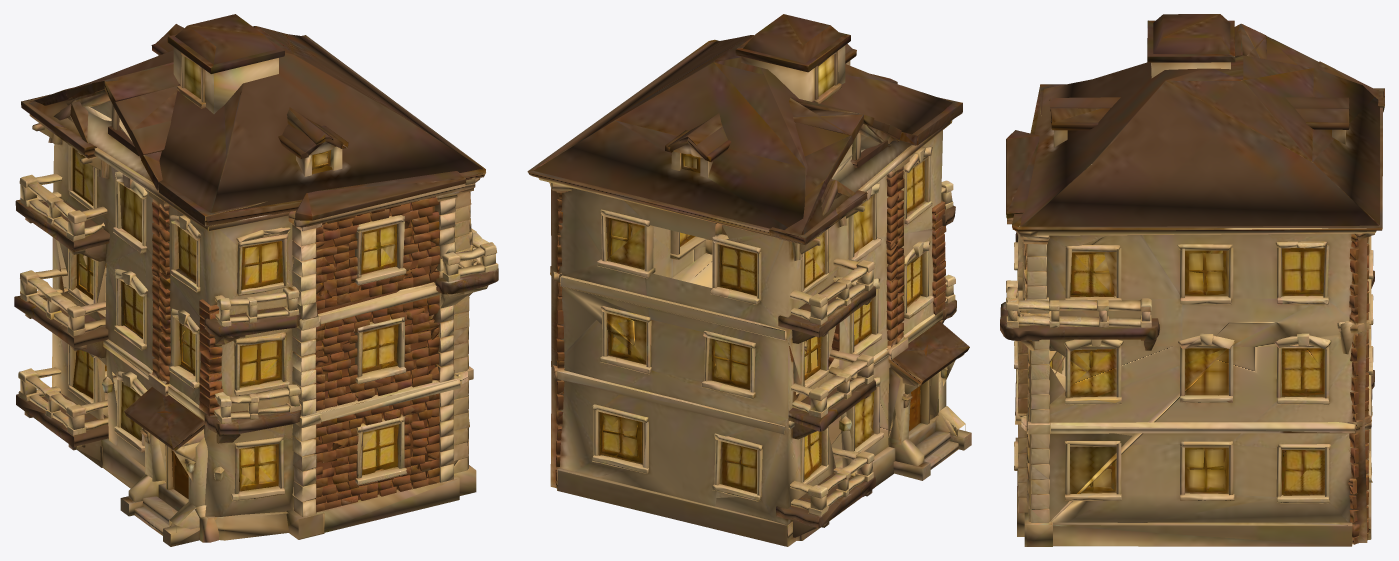
File: apartment_block.glb
The picture shows the model from 3 angles, left to right: view 1: azimuth 30°, elevation 25°; view 2: azimuth 150°, elevation 25°; view 3: azimuth 270°, elevation 25°; orthographic projection. The views are drawn at different scales.
Parts seen in each view (by area): view 1: geometry_0; view 2: geometry_0; view 3: geometry_0.
Part boxes in pixels (x1,y1,x2,y2): geometry_0: (14,14,498,546); geometry_0: (527,14,971,546); geometry_0: (1000,14,1384,546).
Bounding box in the file's own units: 0.688 × 0.9526 × 0.7534.
Materials: 1 (1 with a texture image).
